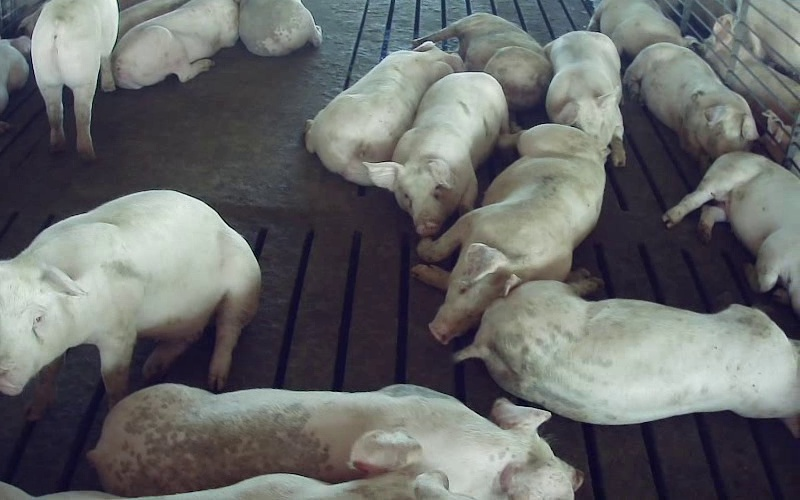pig: (0, 190, 259, 419), (456, 272, 799, 429), (412, 124, 607, 343), (365, 73, 507, 236), (305, 42, 462, 185), (663, 152, 799, 316), (623, 43, 757, 170), (31, 0, 117, 159), (413, 13, 551, 109), (544, 31, 625, 166), (588, 0, 694, 58), (239, 0, 321, 55)
